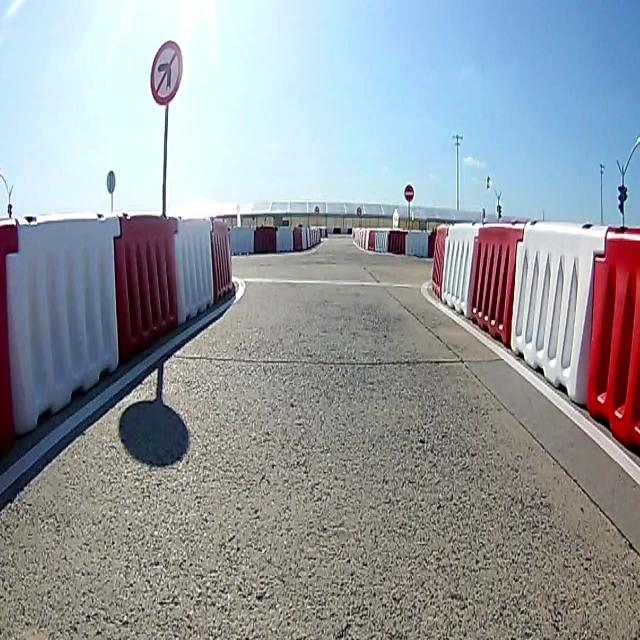girisyok: (404, 183, 414, 204)
soladonulmez: (150, 40, 183, 103)
